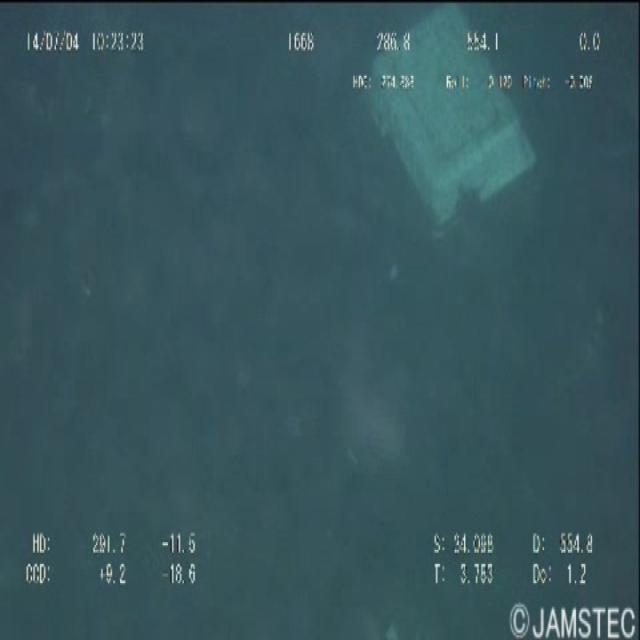Cutlery: (359, 0, 550, 231)
